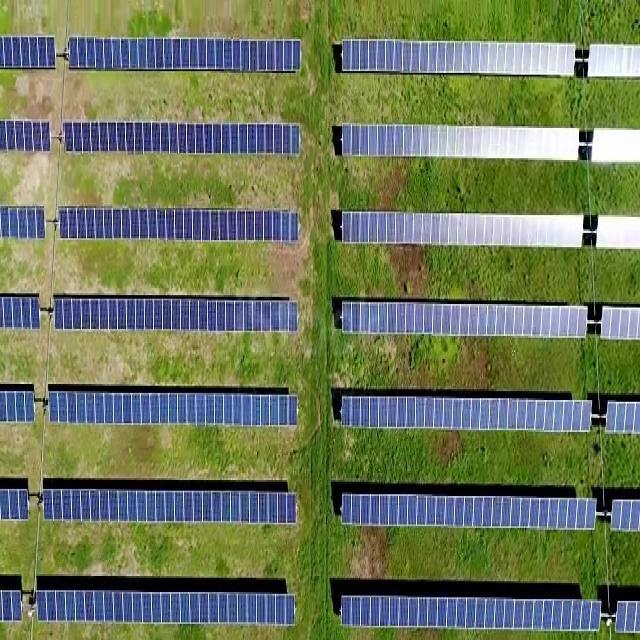solar-panel: (338, 299, 588, 342), (345, 493, 597, 530), (340, 212, 585, 249), (37, 590, 296, 625), (343, 40, 574, 79), (49, 391, 299, 426), (54, 298, 300, 333), (340, 598, 600, 631), (44, 490, 296, 524), (63, 123, 304, 158), (60, 207, 299, 242), (342, 126, 579, 161), (342, 398, 592, 431), (72, 38, 301, 73), (1, 38, 55, 67), (1, 120, 52, 150), (596, 129, 640, 159), (593, 48, 640, 76), (599, 218, 640, 250), (1, 297, 40, 327), (1, 208, 44, 234), (603, 309, 640, 337), (1, 390, 35, 420), (1, 490, 30, 521), (608, 403, 640, 429), (615, 500, 640, 531), (617, 605, 640, 633), (1, 592, 21, 621)
